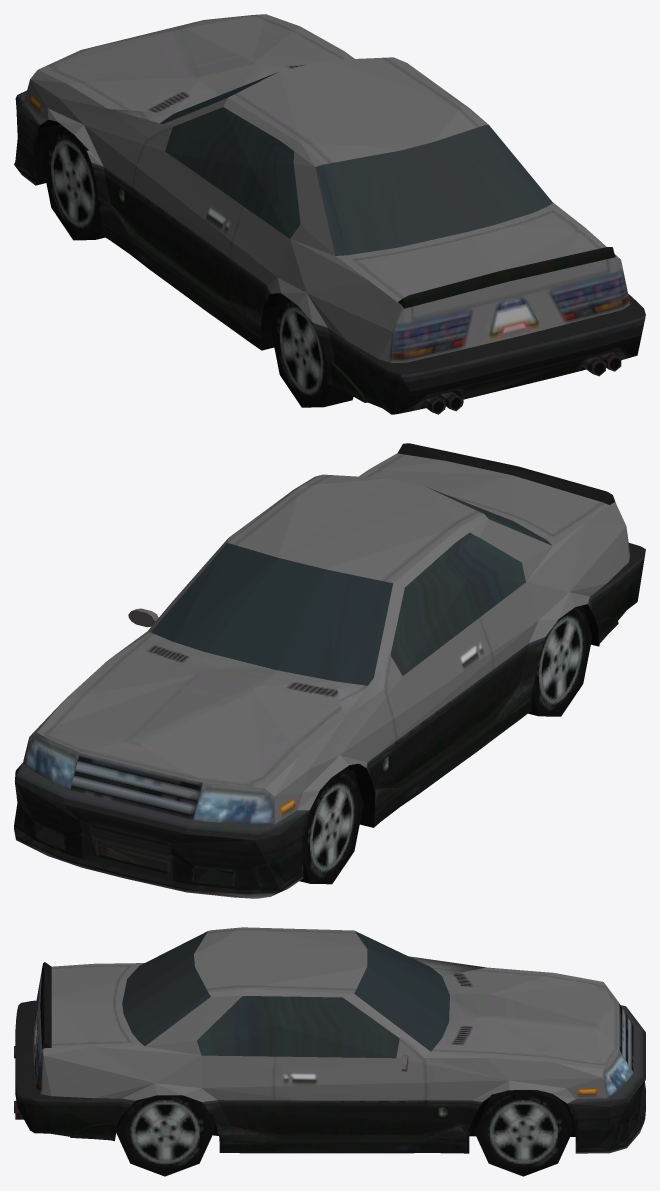
The model's file is level10.fbx.
3 renders of one model, top to bottom at view 1: azimuth 30°, elevation 25°; view 2: azimuth 150°, elevation 25°; view 3: azimuth 270°, elevation 25°, orthographic. The views are drawn at different scales.
Visible parts, largest first — view 1: car_mirror3; view 2: car_mirror3; view 3: car_mirror3.
Part boxes in pixels (x1,y1,x2,y2): car_mirror3: (14,14,645,414); car_mirror3: (14,443,645,898); car_mirror3: (14,927,645,1176).
Size of the model in its own units: 191 by 137 by 463.
Materials: 2 (2 with a texture image).
